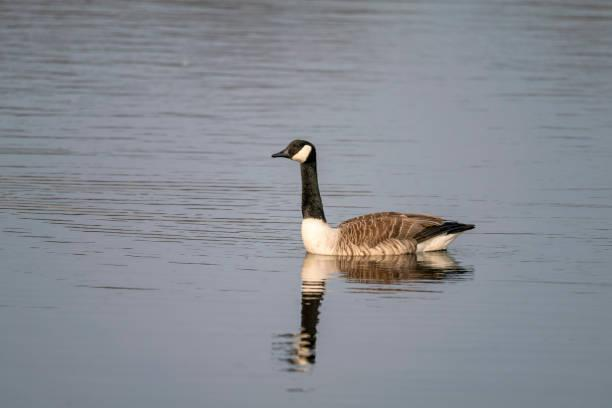Canadian-Goose: (269, 137, 477, 255)
